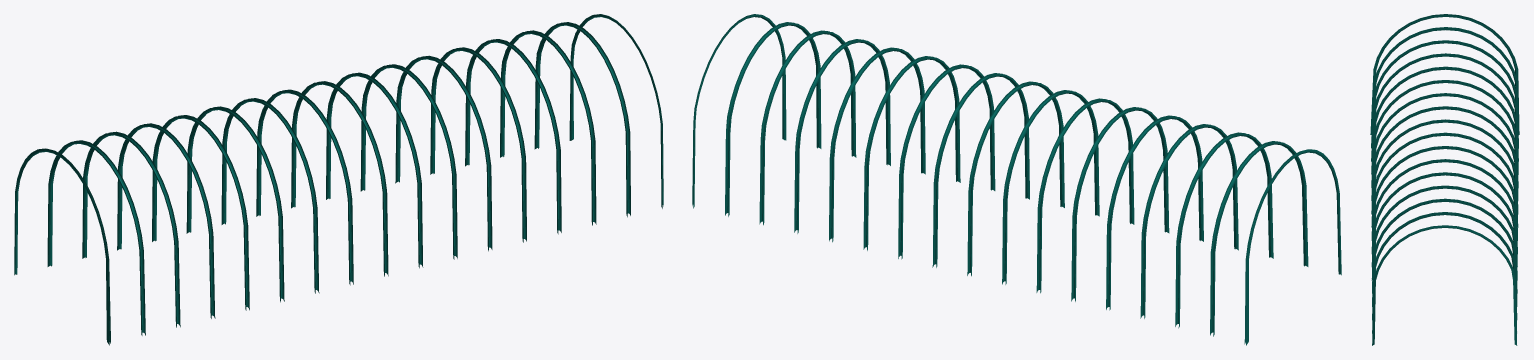
The model's file is prop_3F_tunnel_effect.fbx.
The picture shows the model from 3 angles, left to right: view 1: azimuth 30°, elevation 25°; view 2: azimuth 150°, elevation 25°; view 3: azimuth 270°, elevation 25°; orthographic projection. The views are drawn at different scales.
Visible parts, largest first — view 1: polySurface3; view 2: polySurface3; view 3: polySurface3.
Boxes of the visible parts, x1,y1,x2,y2 form: polySurface3: (14, 14, 663, 345); polySurface3: (692, 14, 1341, 345); polySurface3: (1370, 14, 1519, 345).
Bounding box in the file's own units: 1921 × 512 × 571.
